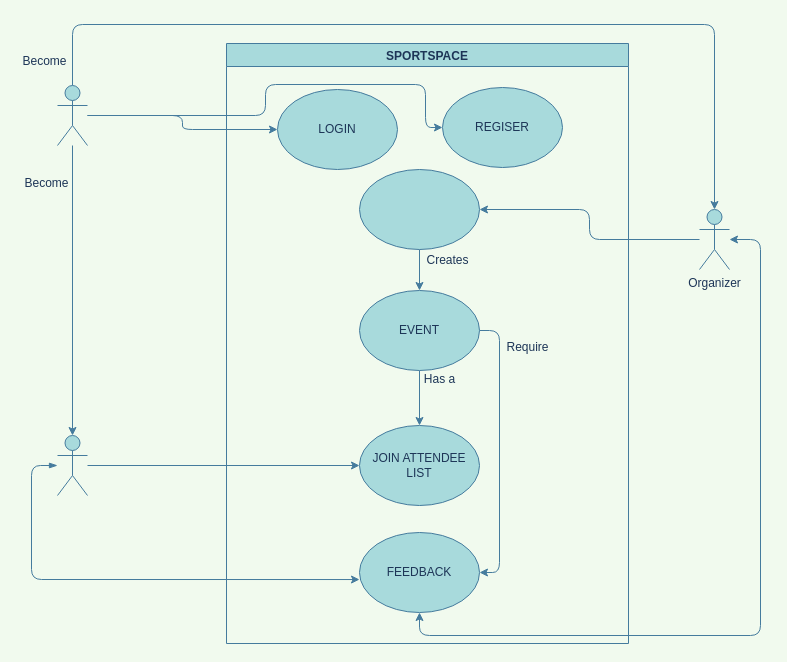
Image size: 787x662. Some labels were removed from this diagram. The centre of each missing label's shape, as x and y in pixels:
ORGANIZE EVENT: (x=419, y=209)
Participant: (x=72, y=465)
User: (x=72, y=115)
